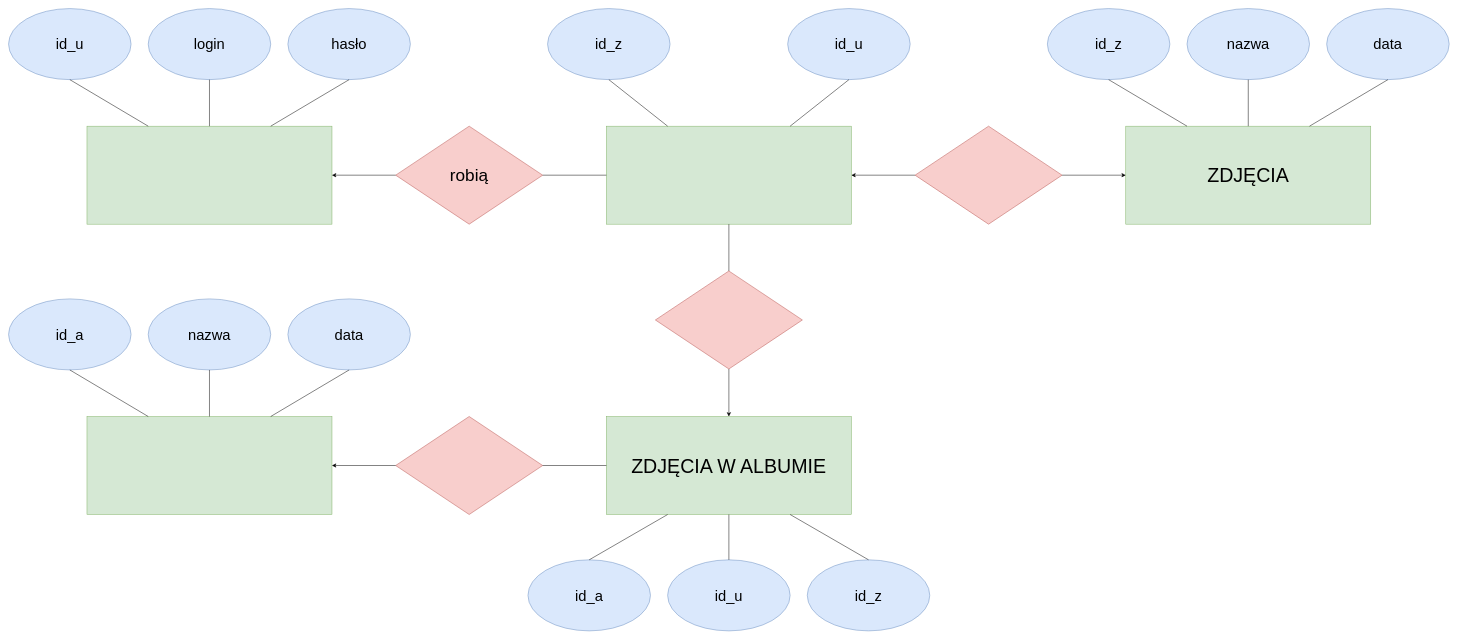
Image size: 1458x639. Some labels were removed from this diagram. Each missing label, with the centre of its shape:
ALBUM: the point at 209,465
są robione: the point at 988,175
są zawarte: the point at 728,319
UŻYTKOWNICY: the point at 209,175
zawiera: the point at 469,465
ZDJĘCIA UŻYTKOWNIKÓW: the point at 728,175
